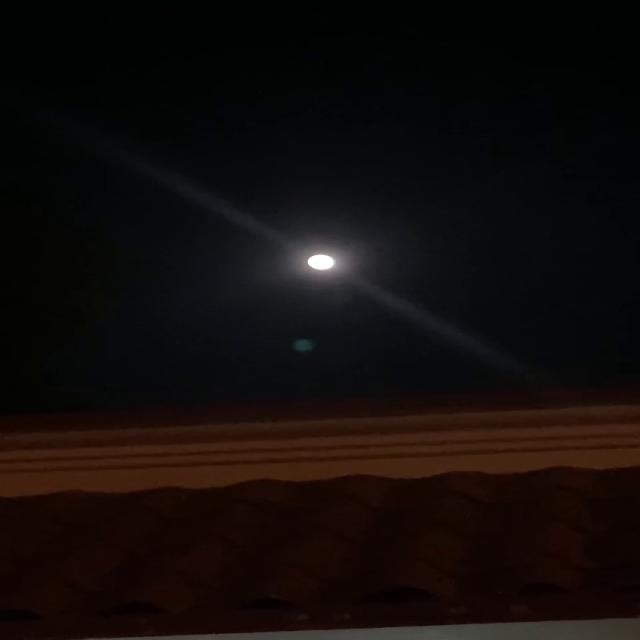moon: (308, 252, 347, 270)
